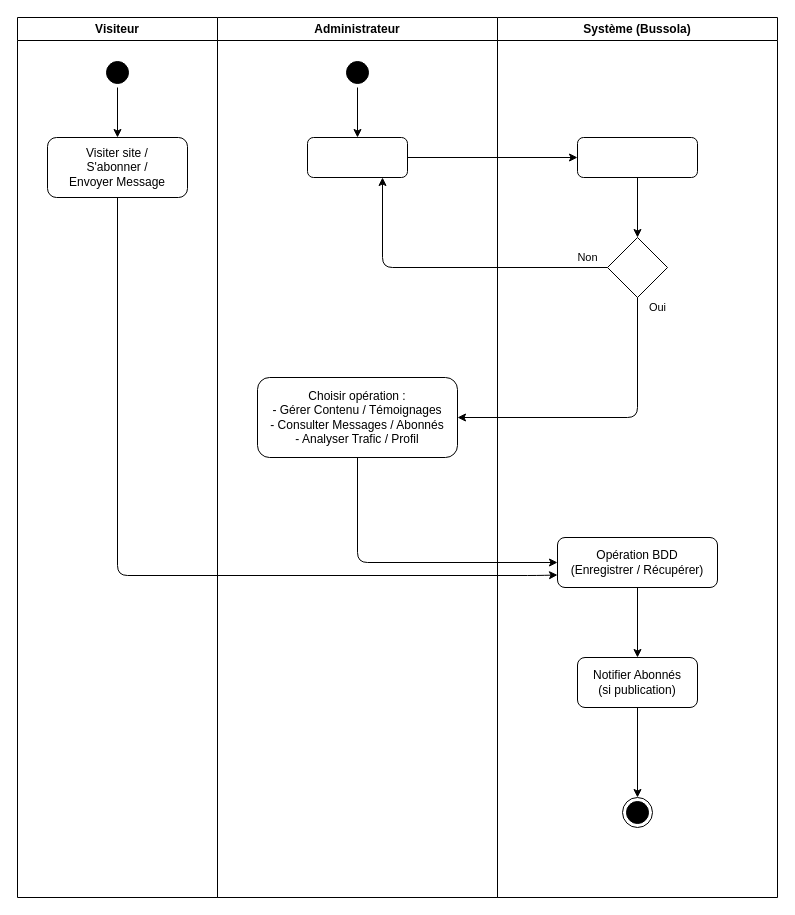
The diagram is 795 pixels wide and 915 high, and some of its shapes have lost their labels. The shapes that lost their labels are listed below. From the top down, each one's centre as x and y in pixels, then its label:
At (x=357, y=157): "S'authentifier".
At (x=637, y=157): "Vérifier identifiants".
At (x=637, y=267): "OK ?".
